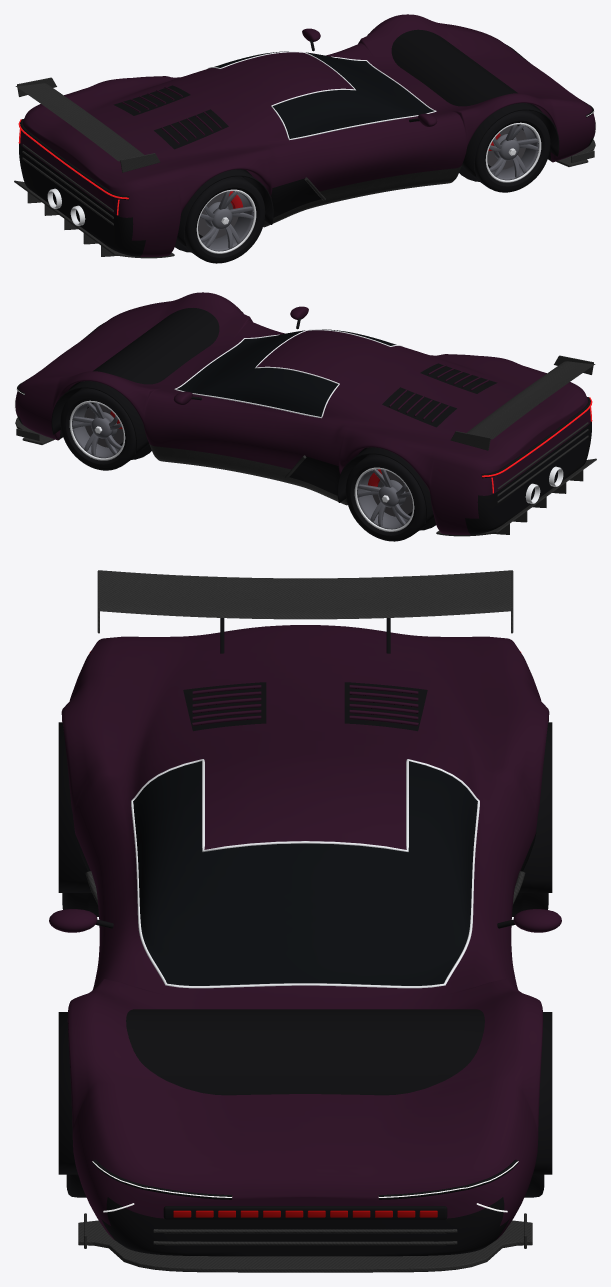
The model's file is ignis_auto.glb.
3 views of the same model, one above another, from view 1: azimuth 30°, elevation 25°; view 2: azimuth 150°, elevation 25°; view 3: azimuth 270°, elevation 25° (orthographic). The views are drawn at different scales.
Parts seen in each view (by area): view 1: carroceria, parabrisas, rueda_tra_der, rueda_del_der, luces; view 2: carroceria, parabrisas, rueda_tra_izq, rueda_del_izq, luces; view 3: carroceria, parabrisas, escaner_carcasa.
Part boxes in pixels (box(x1,y1,x2,y2)): carroceria: box(14, 14, 595, 258); parabrisas: box(214, 51, 433, 138); rueda_tra_der: box(178, 176, 265, 263); rueda_del_der: box(470, 110, 550, 192); luces: box(18, 110, 596, 215); carroceria: box(15, 292, 596, 536); parabrisas: box(177, 329, 396, 416); rueda_tra_izq: box(345, 454, 432, 541); rueda_del_izq: box(60, 388, 140, 470); luces: box(14, 388, 592, 493); carroceria: box(49, 570, 561, 1272); parabrisas: box(133, 761, 477, 985); escaner_carcasa: box(163, 1206, 447, 1219).
Bounding box in the file's own units: 4.69 × 1.14 × 2.1.
8 materials, 3 textured.
